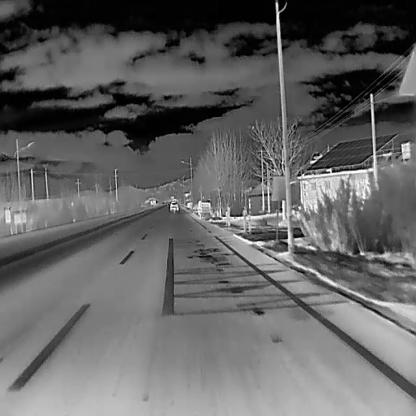car: (169, 200, 179, 210)
